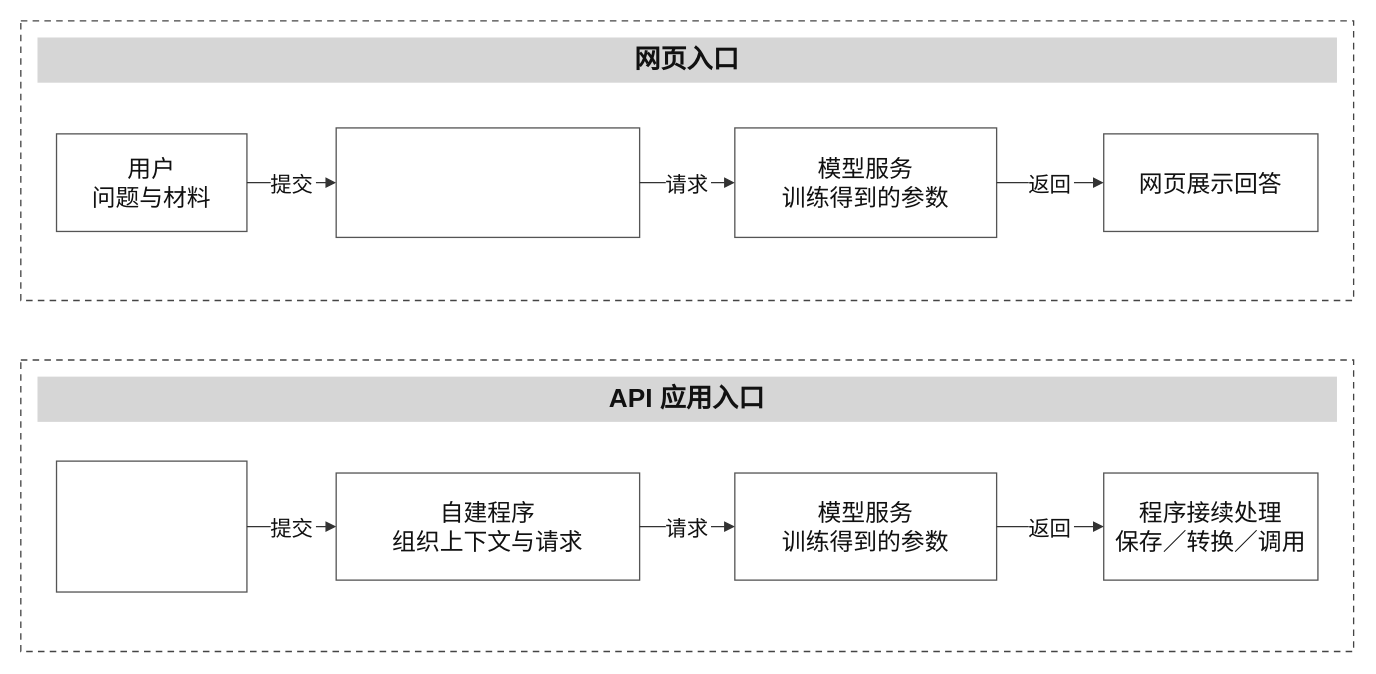
The diagram is 1376 pixels wide and 674 high, and some of its shapes have lost their labels. The shapes that lost their labels are listed below. From the top down, each one's box as (x1, y1, x2, y2) in pixels, then its label:
(335, 127, 640, 238): 网页产品 组织上下文与工具
(55, 460, 247, 592): 用户材料 ＋ 开发者任务指令
